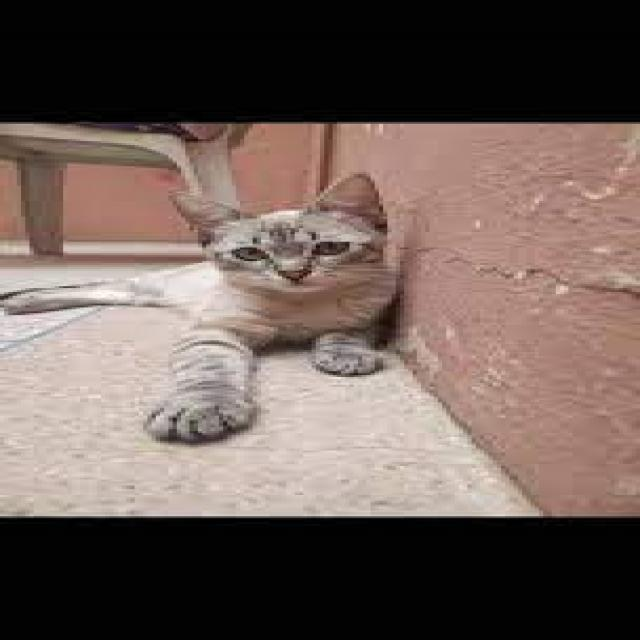cat: (103, 158, 486, 422)
